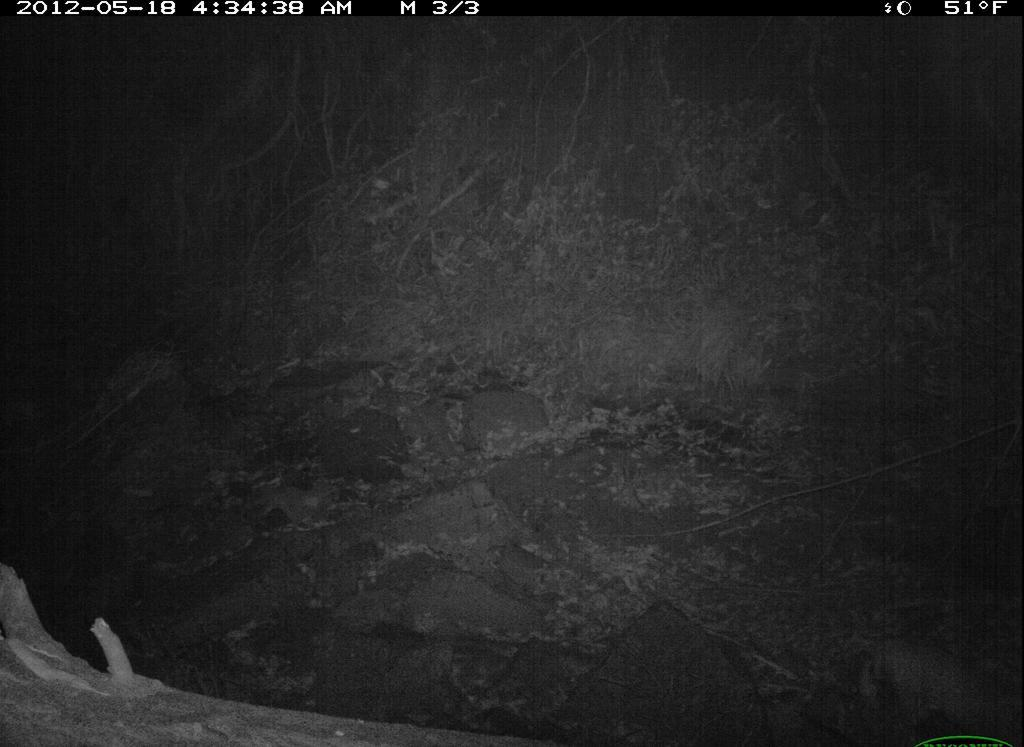bobcat: (856, 616, 1019, 747)
